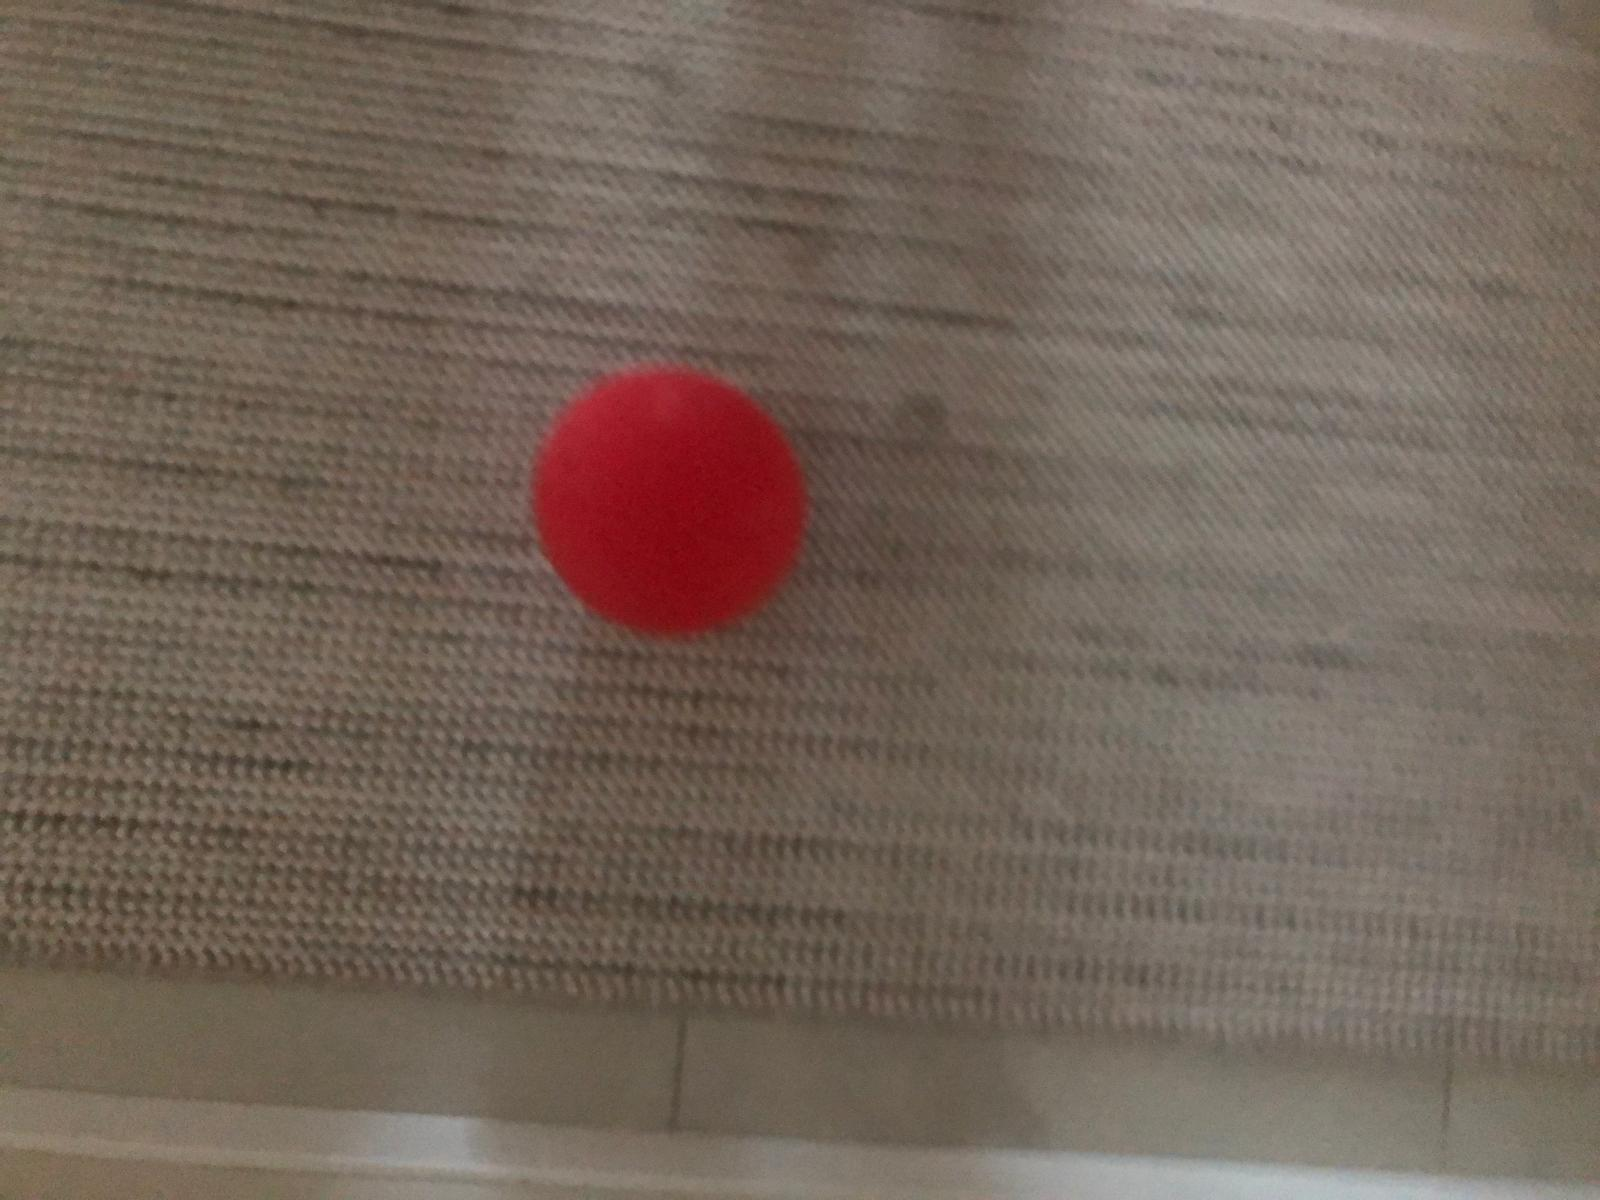red: (523, 368, 800, 643)
